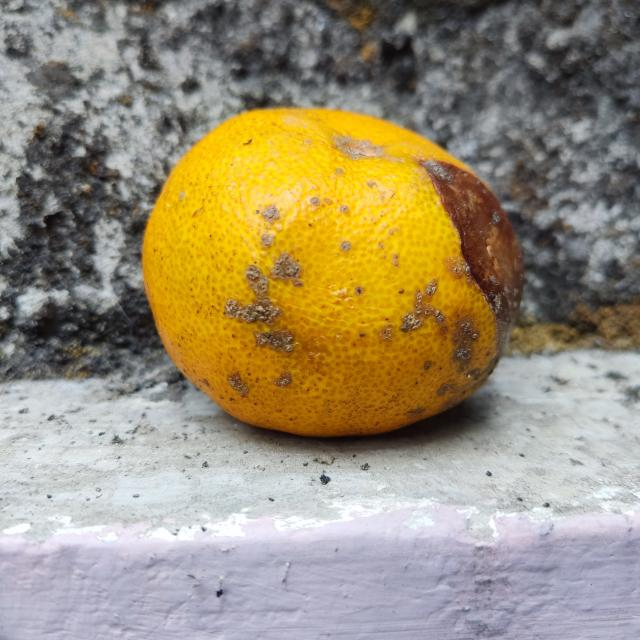orange: (141, 106, 523, 437)
